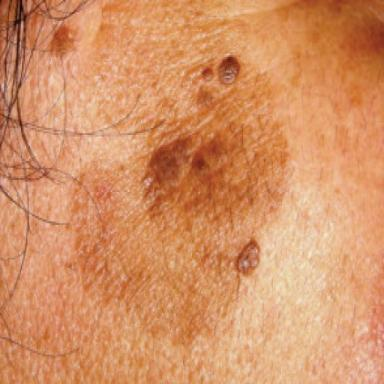Melanoma: (67, 0, 291, 348)
